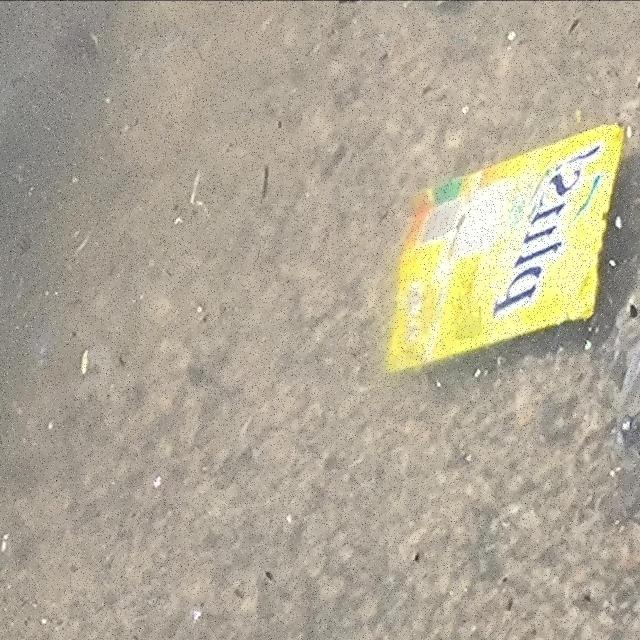plastic_waste: (386, 122, 628, 375)
